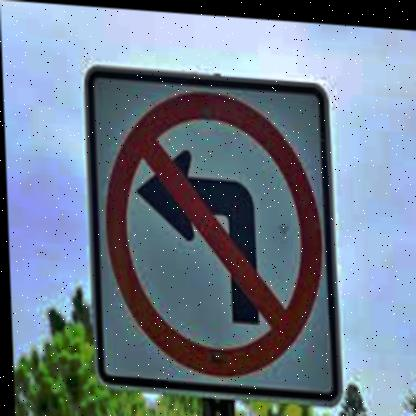No left turn: (90, 61, 325, 393)
